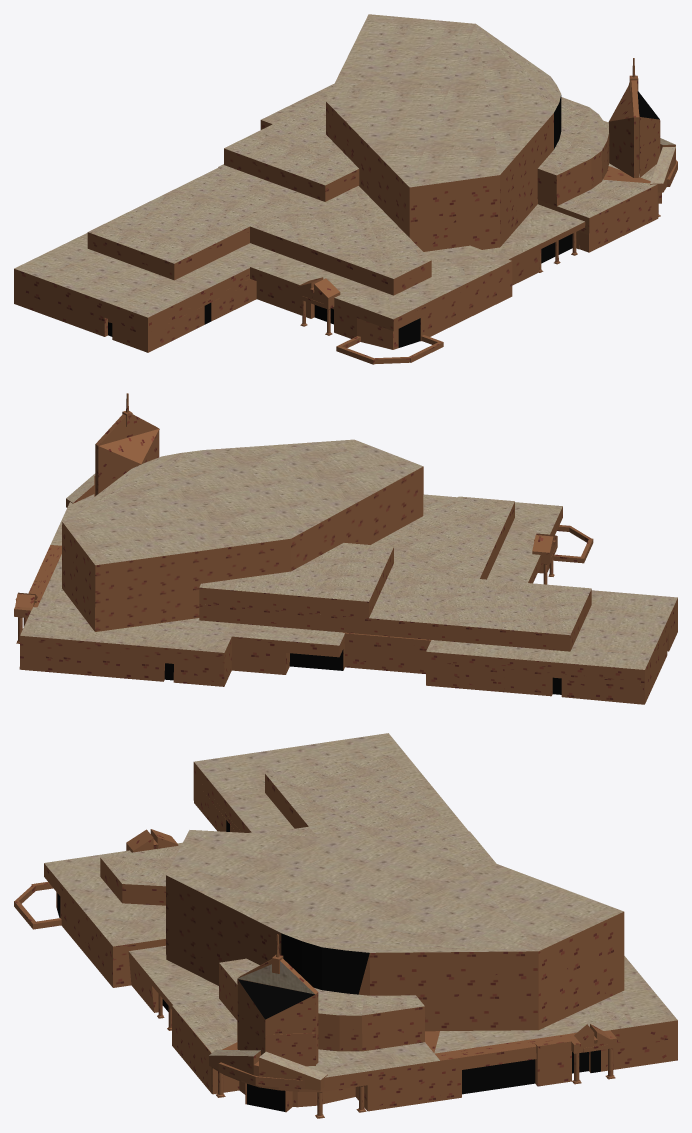
File: dmc.obj
3 renders of one model, top to bottom at view 1: azimuth 30°, elevation 25°; view 2: azimuth 150°, elevation 25°; view 3: azimuth 270°, elevation 25°, orthographic. The views are drawn at different scales.
Visible parts, largest first — view 1: No_Name; view 2: No_Name; view 3: No_Name.
Boxes of the visible parts, bbox=[...] form: No_Name: bbox=[14, 14, 677, 364]; No_Name: bbox=[14, 393, 677, 704]; No_Name: bbox=[14, 733, 677, 1118].
Bounding box in the file's own units: 52 × 11.4 × 41.73.
